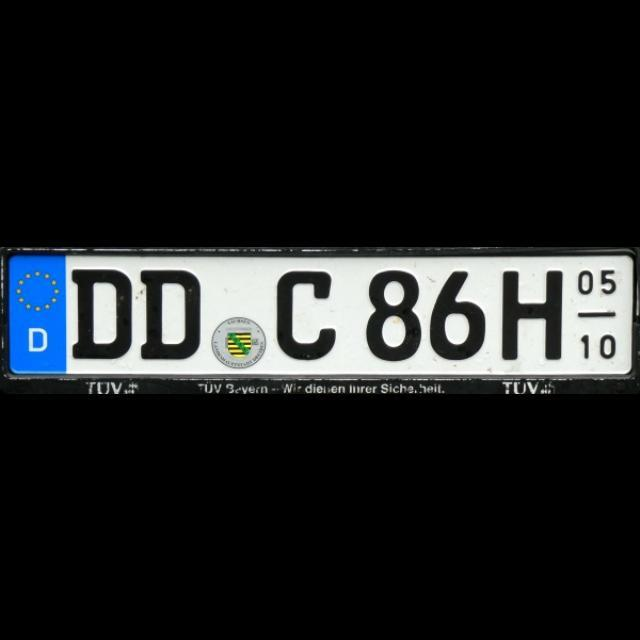license-plates: (0, 248, 640, 396)
